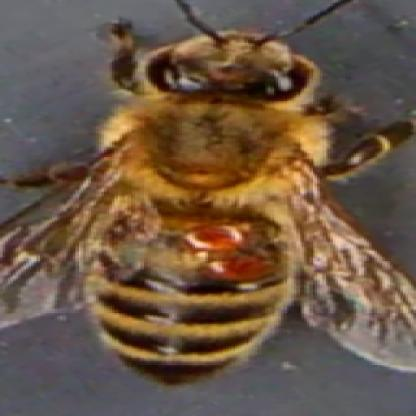bee: (94, 23, 320, 389)
vaoora: (204, 255, 268, 279), (193, 226, 245, 252)
